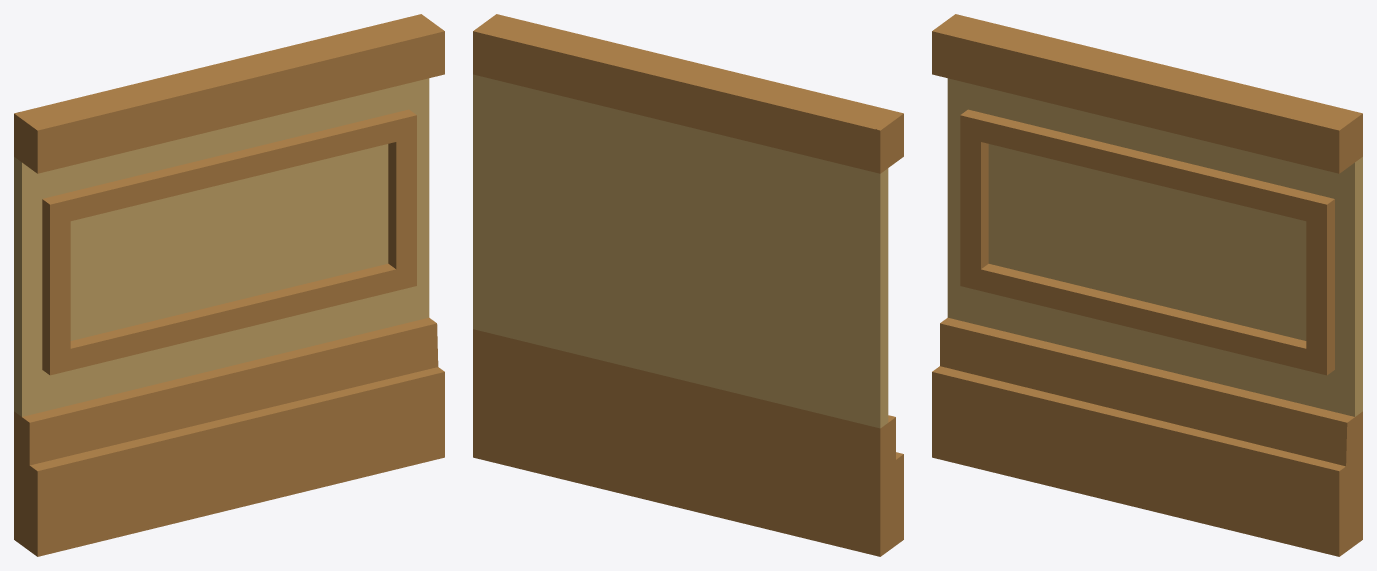
Rendered from lower_room_detail.fbx.
3 renders of one model, left to right at view 1: azimuth 30°, elevation 25°; view 2: azimuth 150°, elevation 25°; view 3: azimuth 330°, elevation 25°, orthographic.
Visible parts, largest first — view 1: Lower Room Detail; view 2: Lower Room Detail; view 3: Lower Room Detail.
Part boxes in pixels (x1,y1,x2,y2): Lower Room Detail: (14, 14, 444, 556); Lower Room Detail: (473, 14, 903, 556); Lower Room Detail: (932, 14, 1362, 556).
Size of the model in its own units: 100 by 100 by 10.
